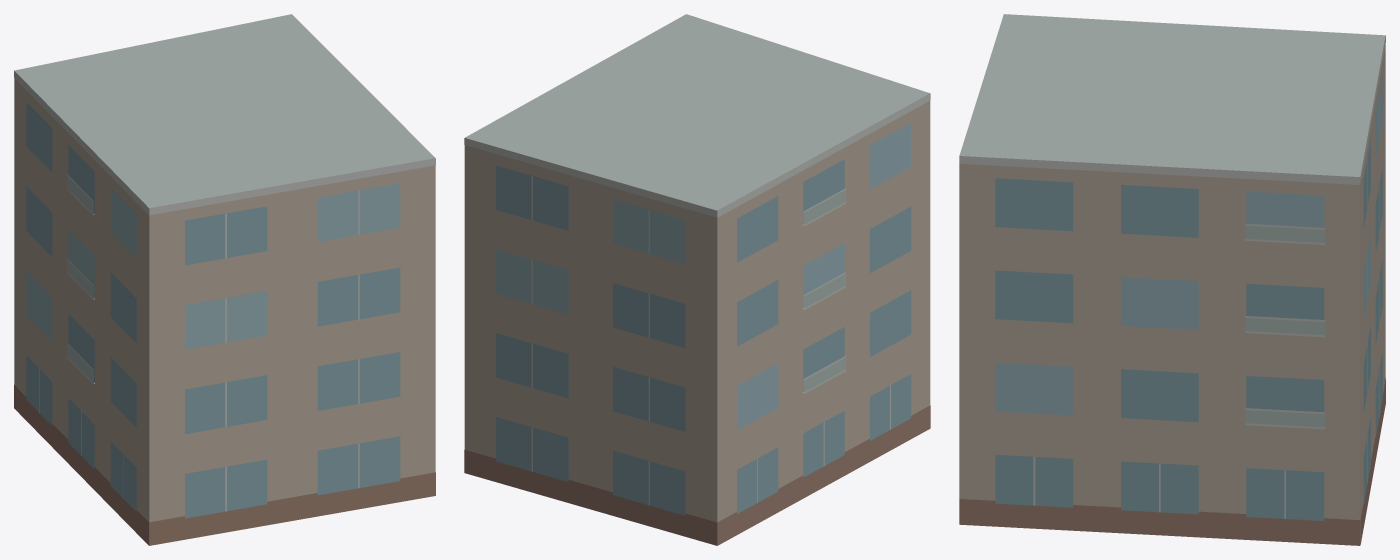
File: survey-upis-32809054.glb
The picture shows the model from 3 angles, left to right: view 1: azimuth 30°, elevation 25°; view 2: azimuth 150°, elevation 25°; view 3: azimuth 270°, elevation 25°; orthographic projection. The views are drawn at different scales.
Parts seen in each view (by area): view 1: survey-upis-32809054.tmp; view 2: survey-upis-32809054.tmp; view 3: survey-upis-32809054.tmp.
Boxes of the visible parts, left/top/right/bottom form: survey-upis-32809054.tmp: left=14, top=14, right=435, bottom=545; survey-upis-32809054.tmp: left=464, top=14, right=930, bottom=545; survey-upis-32809054.tmp: left=959, top=14, right=1385, bottom=545.
Size of the model in its own units: 10.92 by 11.5 by 12.06.
